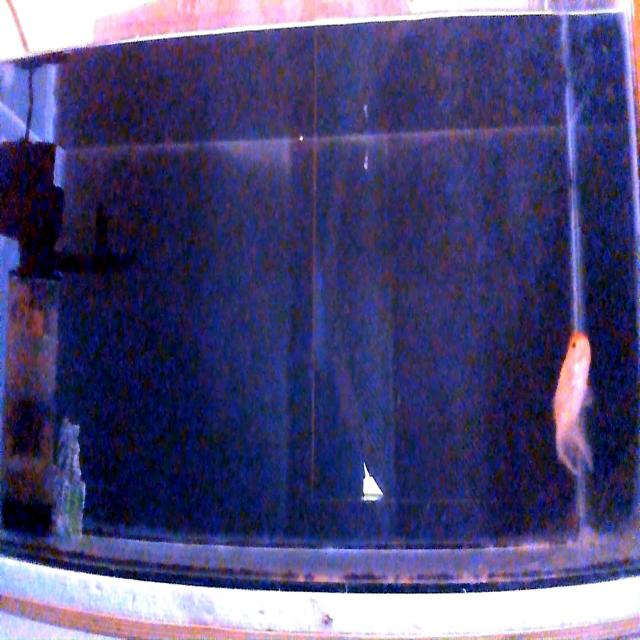fish: (552, 332, 594, 488)
